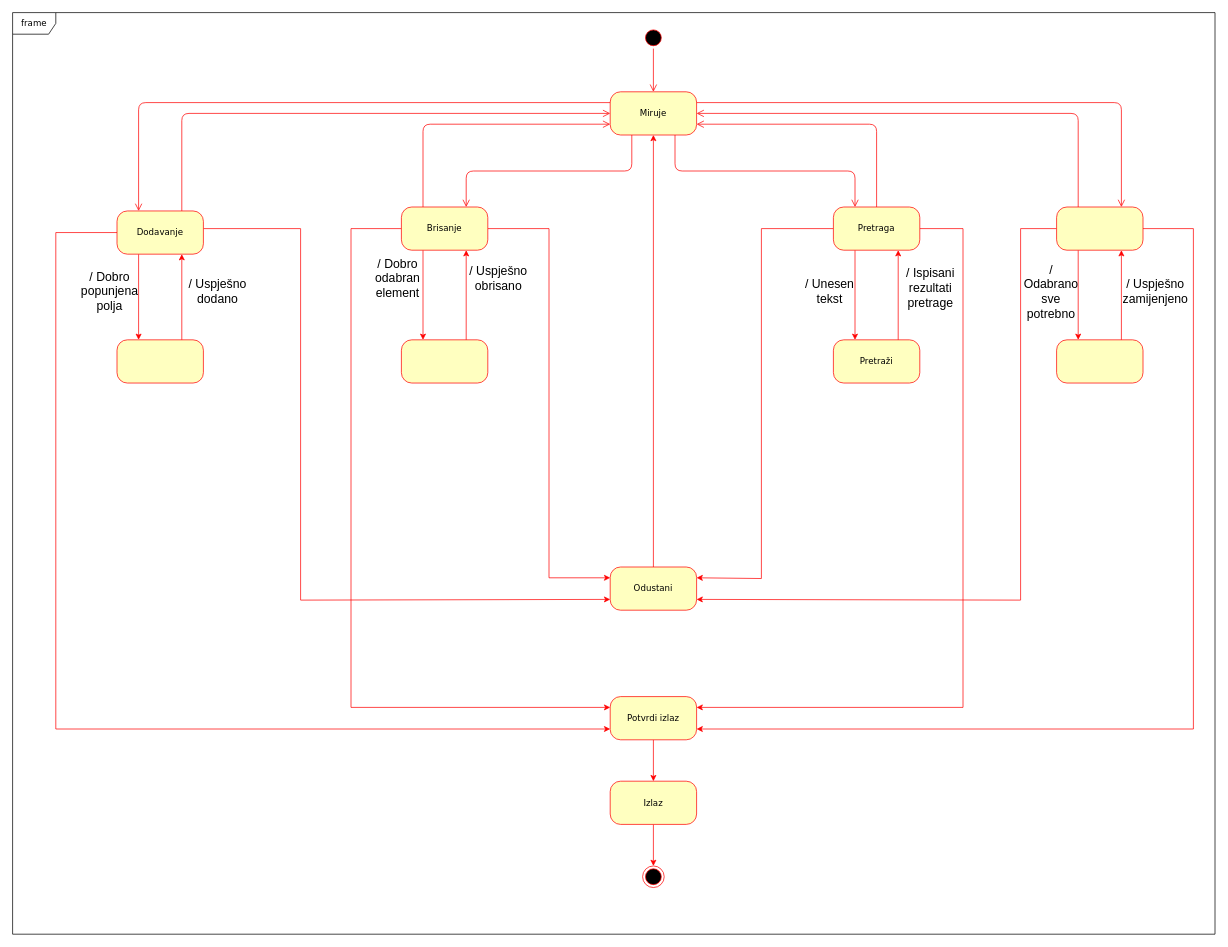
This 1228x947 diagram has some shape labels left out. The shapes that lost their labels are listed below. From the top down, each one's centre as x and y in pixels, then its label:
At point 1099,228: "Zamjena".
At point 159,361: "Dodaj".
At point 444,361: "Obriši".
At point 1099,361: "Zamjeni".
